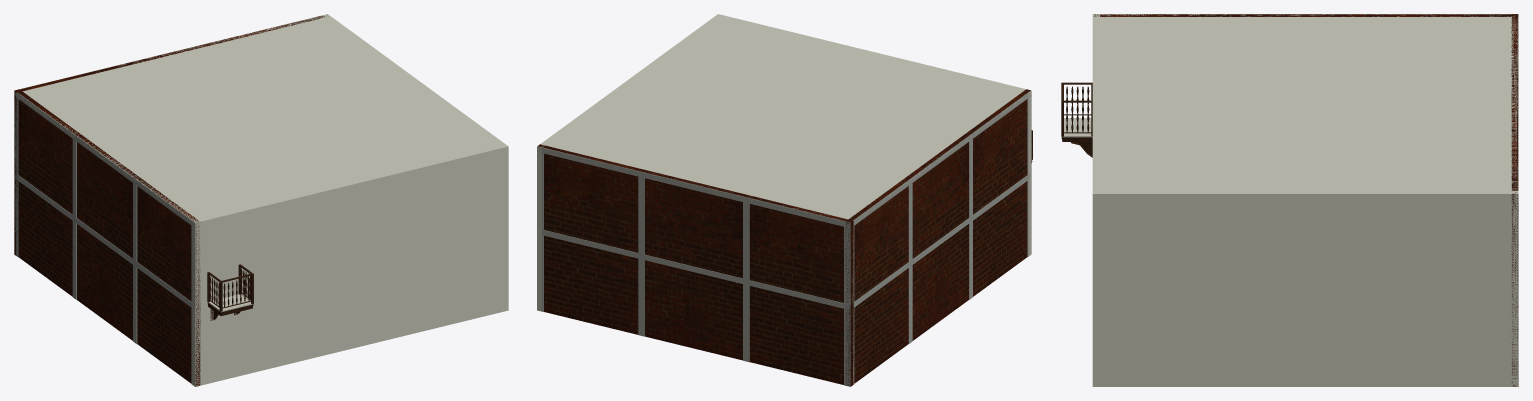
The model's file is building.glb.
3 renders of one model, left to right at view 1: azimuth 30°, elevation 25°; view 2: azimuth 150°, elevation 25°; view 3: azimuth 270°, elevation 25°, orthographic. The views are drawn at different scales.
Parts seen in each view (by area): view 1: roof/house:0/roof_slab#0001, house:0/edge0/z0/house:0/edge0/z0/wall_0_0, house:0/edge3/z0/house:0/edge3/z0/wall_0_0, house:0/edge2/z0/house:0/edge2/z0/wall_0_0, house:0/edge3/z0/house:0/edge3/z0/beam_0_0, house:0/edge3/z0/house:0/edge3/z0/beam_1_0, house:0/edge1/z0/house:0/edge1/z0/wall_0_0; view 2: roof/house:0/roof_slab#0001, house:0/edge2/z0/house:0/edge2/z0/wall_0_0, house:0/edge3/z0/house:0/edge3/z0/wall_0_0, house:0/edge1/z0/house:0/edge1/z0/wall_0_0, house:0/edge2/z0/house:0/edge2/z0/beam_1_0, house:0/edge2/z0/house:0/edge2/z0/beam_0_0, house:0/edge0/z0/house:0/edge0/z0/wall_0_0, house:0/edge3/z0/house:0/edge3/z0/beam_0_0, house:0/edge3/z0/house:0/edge3/z0/beam_1_0, house:0/edge2/z0/house:0/edge2/z0/column_2_0, house:0/edge2/z0/house:0/edge2/z0/column_2_1, house:0/edge2/z0/house:0/edge2/z0/column_3_0 (+3 smaller); view 3: house:0/edge1/z0/house:0/edge1/z0/wall_0_0, roof/house:0/roof_slab#0001, house:0/edge0/z0/house:0/edge0/z0/wall_0_0, house:0/edge2/z0/house:0/edge2/z0/wall_0_0, house:0/edge3/z0/house:0/edge3/z0/wall_0_0, balcony/sample/balcony_platform#0001.
Boxes of the visible parts, x1=… form: roof/house:0/roof_slab#0001: x1=15, y1=14, x2=506, y2=225; house:0/edge0/z0/house:0/edge0/z0/wall_0_0: x1=192, y1=144, x2=508, y2=386; house:0/edge3/z0/house:0/edge3/z0/wall_0_0: x1=17, y1=89, x2=200, y2=386; house:0/edge2/z0/house:0/edge2/z0/wall_0_0: x1=14, y1=15, x2=327, y2=255; house:0/edge3/z0/house:0/edge3/z0/beam_0_0: x1=14, y1=173, x2=195, y2=309; house:0/edge3/z0/house:0/edge3/z0/beam_1_0: x1=14, y1=92, x2=195, y2=227; house:0/edge1/z0/house:0/edge1/z0/wall_0_0: x1=323, y1=14, x2=508, y2=311; roof/house:0/roof_slab#0001: x1=540, y1=14, x2=1031, y2=223; house:0/edge2/z0/house:0/edge2/z0/wall_0_0: x1=538, y1=144, x2=853, y2=386; house:0/edge3/z0/house:0/edge3/z0/wall_0_0: x1=845, y1=89, x2=1030, y2=385; house:0/edge1/z0/house:0/edge1/z0/wall_0_0: x1=537, y1=15, x2=722, y2=311; house:0/edge2/z0/house:0/edge2/z0/beam_1_0: x1=538, y1=147, x2=850, y2=228; house:0/edge2/z0/house:0/edge2/z0/beam_0_0: x1=542, y1=230, x2=850, y2=309; house:0/edge0/z0/house:0/edge0/z0/wall_0_0: x1=717, y1=14, x2=1031, y2=256; house:0/edge3/z0/house:0/edge3/z0/beam_0_0: x1=850, y1=172, x2=1031, y2=309; house:0/edge3/z0/house:0/edge3/z0/beam_1_0: x1=850, y1=90, x2=1031, y2=227; house:0/edge2/z0/house:0/edge2/z0/column_2_0: x1=638, y1=176, x2=644, y2=254; house:0/edge2/z0/house:0/edge2/z0/column_2_1: x1=638, y1=258, x2=644, y2=336; house:0/edge2/z0/house:0/edge2/z0/column_3_0: x1=743, y1=202, x2=749, y2=280; house:0/edge1/z0/house:0/edge1/z0/wall_0_0: x1=1092, y1=191, x2=1518, y2=386; roof/house:0/roof_slab#0001: x1=1092, y1=14, x2=1518, y2=198; house:0/edge0/z0/house:0/edge0/z0/wall_0_0: x1=1092, y1=14, x2=1099, y2=386; house:0/edge2/z0/house:0/edge2/z0/wall_0_0: x1=1511, y1=14, x2=1518, y2=386; house:0/edge3/z0/house:0/edge3/z0/wall_0_0: x1=1093, y1=14, x2=1517, y2=16; balcony/sample/balcony_platform#0001: x1=1063, y1=118, x2=1092, y2=137.
Bounding box in the file's own units: 12 × 6 × 12.89.
Materials: 4 (2 with a texture image).
